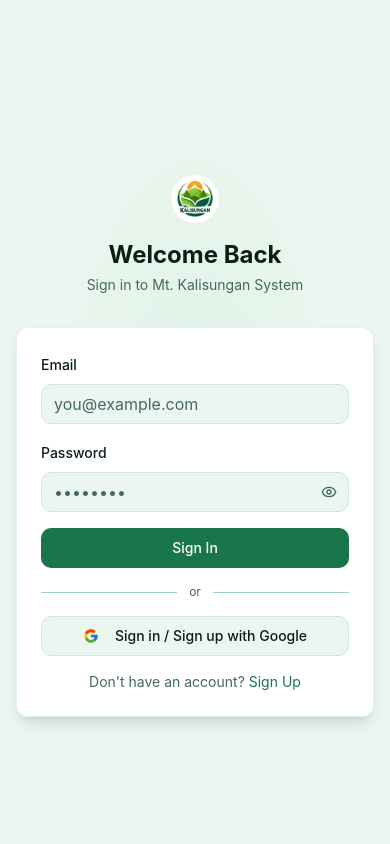
Test: signup without application OTP › offers a signup-confirmation resend after a hosted auth rejection
Type "juan@example.com" into the field labelled "Email" at [195, 404], box left=41, top=384, right=349, bottom=424
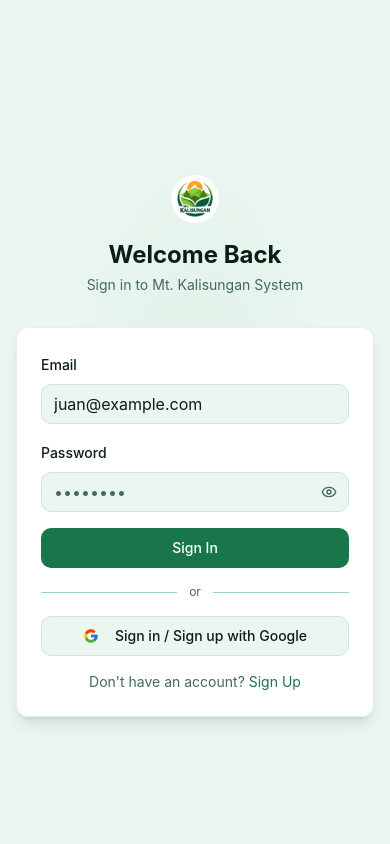
Type "secret123" into the password field labelled "Password" at [195, 492], box left=41, top=472, right=349, bottom=512
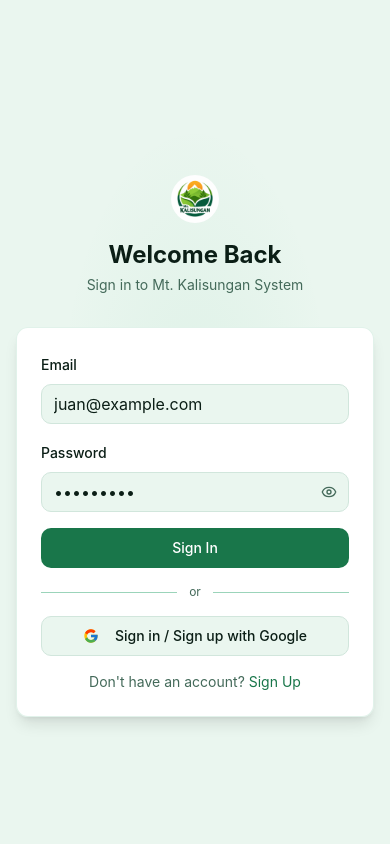
Click the button "Sign In" at [195, 548], box left=41, top=528, right=349, bottom=568
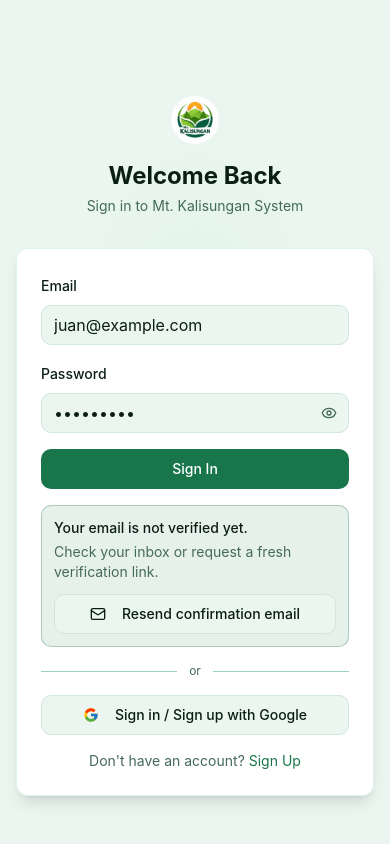
Check: the button "Resend confirmation email" is shown, box left=54, top=594, right=336, bottom=634
